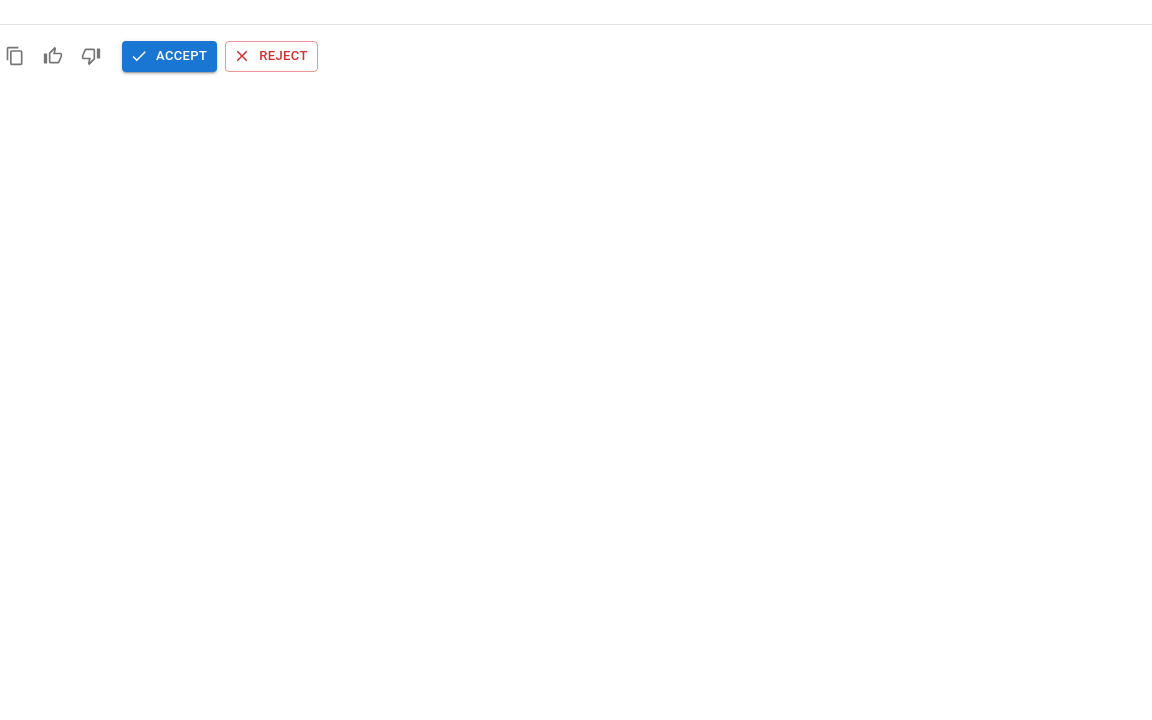
FeedbackControls › Feedback Dialog › should close dialog when Cancel is clicked
Click the button named "Not helpful".
click(91, 56)  # box [76, 41, 106, 72]
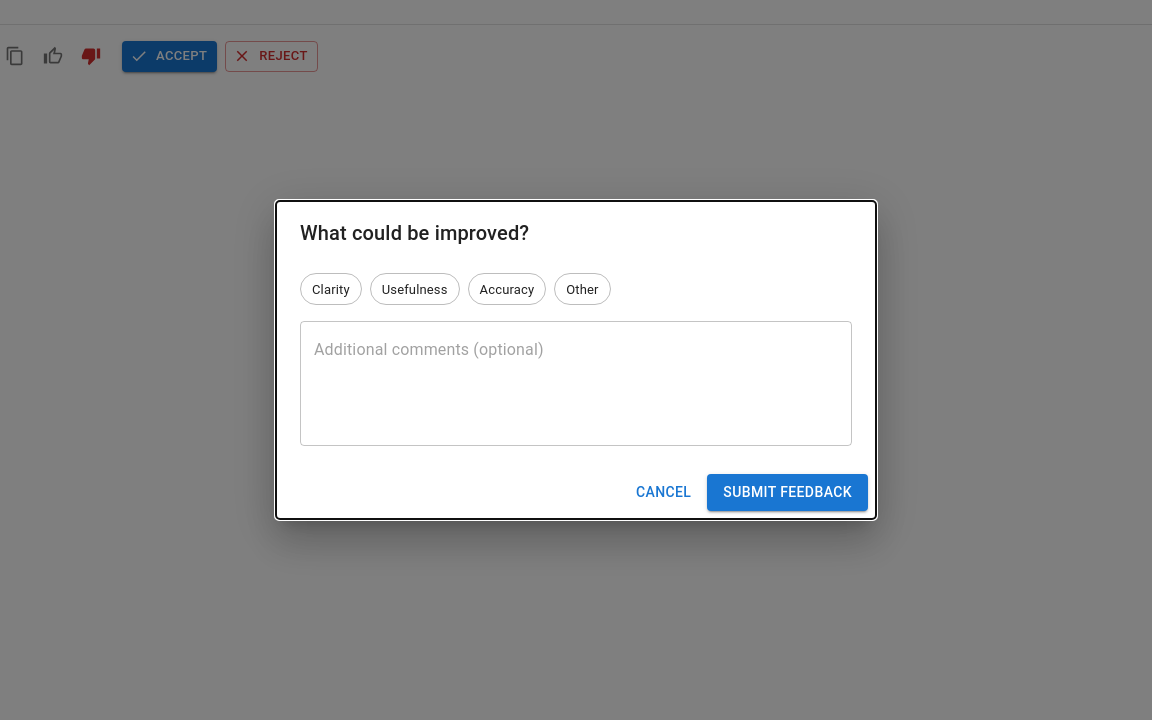
Expected: the heading "What could be improved?" is shown, [300, 221, 529, 245]
Click the button "Cancel".
click(664, 493)  # box [628, 474, 699, 511]
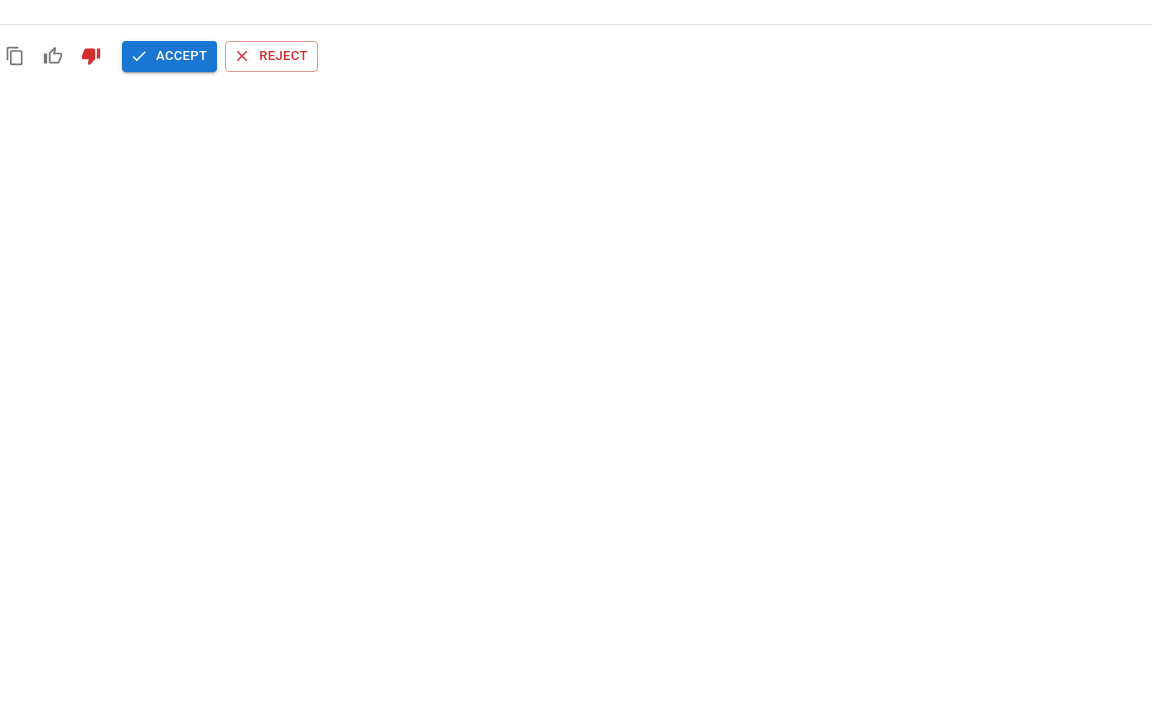
Expected: the heading "What could be improved?" is gone
